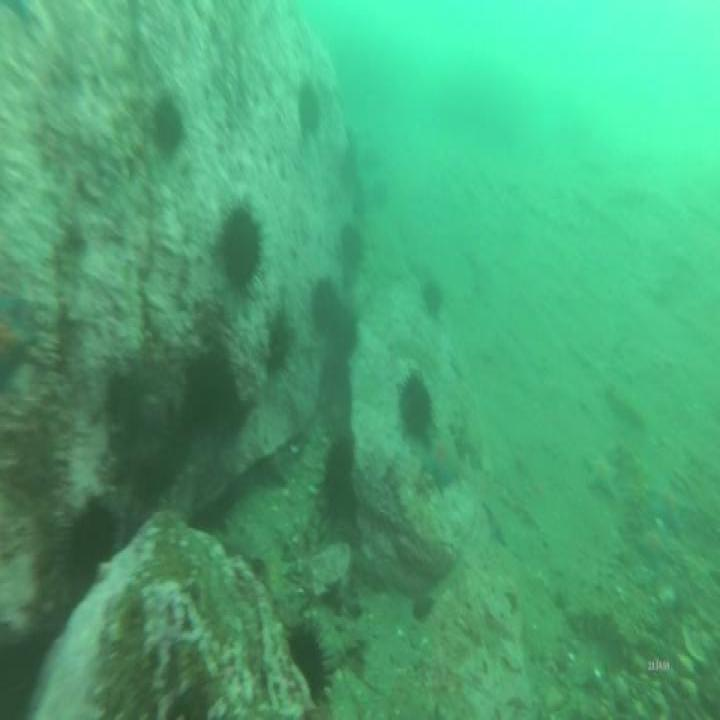echinus: (213, 190, 268, 300), (184, 340, 240, 432), (65, 502, 113, 588), (288, 615, 331, 709), (319, 434, 360, 530), (395, 366, 435, 448), (306, 267, 346, 336), (152, 89, 188, 156), (294, 78, 324, 144), (341, 219, 363, 276), (419, 272, 443, 324)
holothurian: (564, 605, 618, 647)
starfish: (643, 477, 694, 540), (422, 427, 459, 496), (583, 445, 617, 503)
